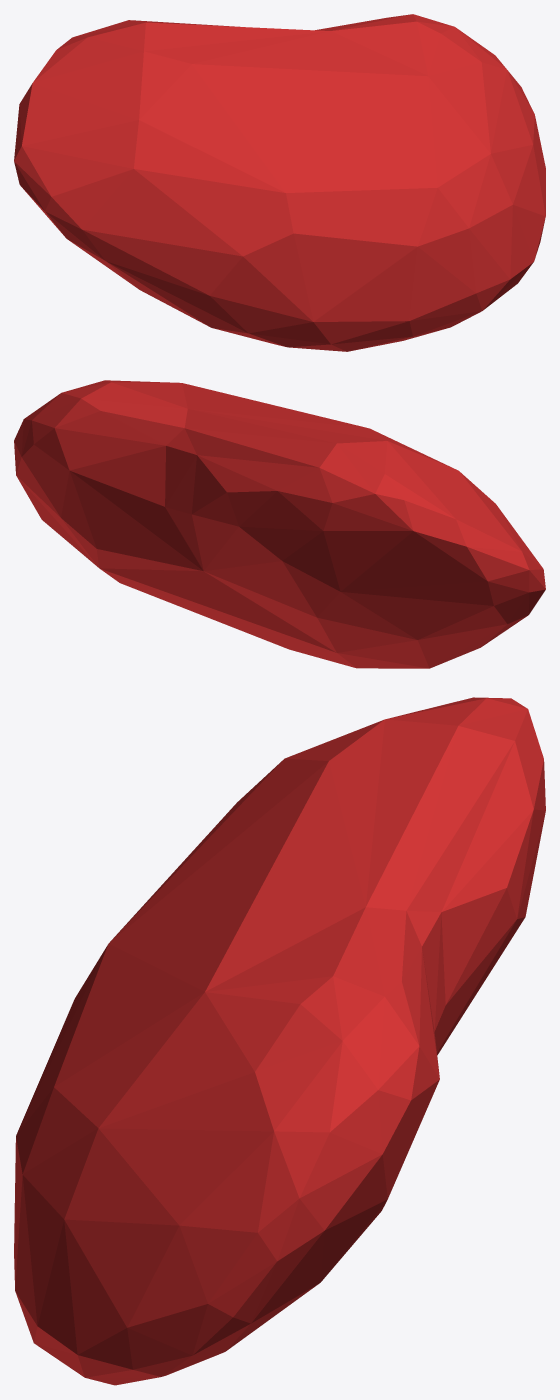
Rendered from rubedo.gltf.
3 renders of one model, top to bottom at view 1: azimuth 30°, elevation 25°; view 2: azimuth 150°, elevation 25°; view 3: azimuth 270°, elevation 25°, orthographic. The views are drawn at different scales.
Parts seen in each view (by area): view 1: rubedo; view 2: rubedo; view 3: rubedo.
Boxes of the visible parts, box(x1,y1,x2,y2) form: rubedo: box(14, 14, 545, 351); rubedo: box(14, 380, 545, 668); rubedo: box(14, 697, 545, 1385).
Bounding box in the file's own units: 5.57 × 3.04 × 3.05.
